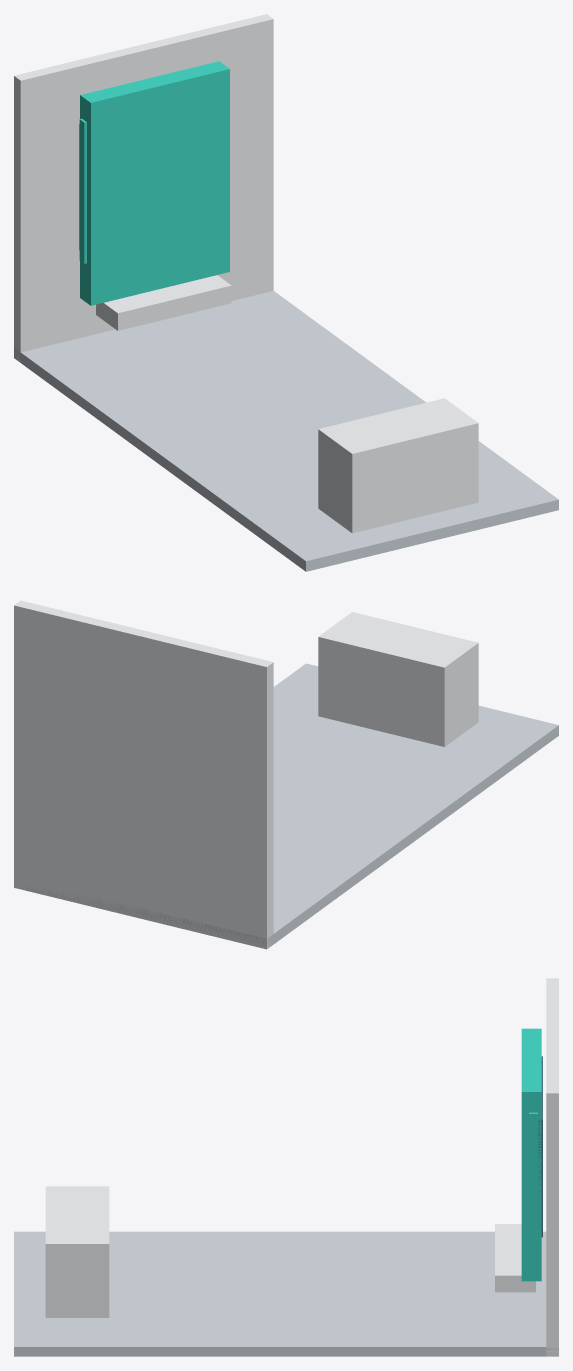
The picture shows the model from 3 angles, top to bottom: view 1: azimuth 30°, elevation 25°; view 2: azimuth 150°, elevation 25°; view 3: azimuth 270°, elevation 25°; orthographic projection. The views are drawn at different scales.
Parts seen in each view (by area): view 1: Exhibition Booth Concept; view 2: Exhibition Booth Concept; view 3: Exhibition Booth Concept.
Part boxes in pixels (<box>): Exhibition Booth Concept: <box>14,14,558,571</box>; Exhibition Booth Concept: <box>14,600,558,949</box>; Exhibition Booth Concept: <box>14,978,558,1356</box>.
Bounding box in the file's own units: 3 × 3.2 × 6.
